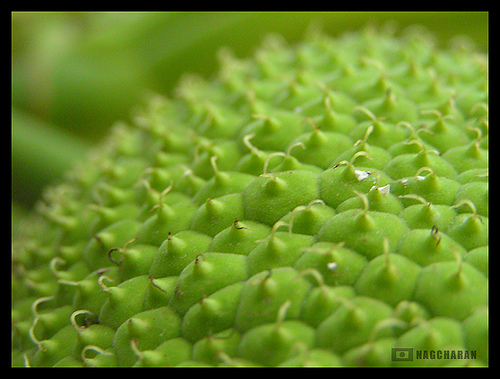jackfruit: (11, 11, 490, 370)
